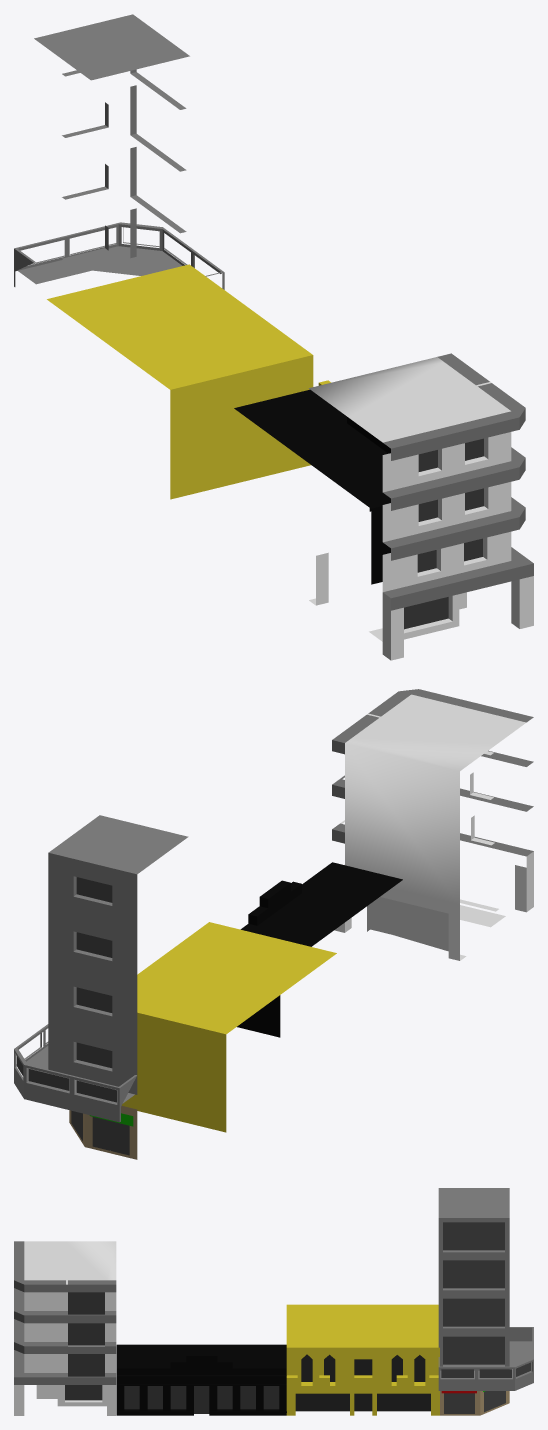
The model's file is Edificio-5-Derecha.glb.
3 renders of one model, top to bottom at view 1: azimuth 30°, elevation 25°; view 2: azimuth 150°, elevation 25°; view 3: azimuth 270°, elevation 25°, orthographic. The views are drawn at different scales.
Parts seen in each view (by area): view 1: Plane3, Plane, Plane2, EdificioAlto, Base; view 2: Plane3, EdificioAlto, Plane, Plane2, Base; view 3: Plane3, Plane, EdificioAlto, Plane2, Base.
Part boxes in pixels (<box>): Plane3: <box>309,353,533,660</box>; Plane: <box>47,264,330,499</box>; Plane2: <box>234,389,390,584</box>; EdificioAlto: <box>34,14,189,273</box>; Base: <box>14,222,224,289</box>; Plane3: <box>332,689,533,960</box>; EdificioAlto: <box>48,815,188,1094</box>; Plane: <box>122,922,336,1132</box>; Plane2: <box>237,862,402,1037</box>; Base: <box>14,1024,137,1159</box>; Plane3: <box>14,1241,116,1415</box>; Plane: <box>286,1304,439,1415</box>; EdificioAlto: <box>438,1188,509,1370</box>; Plane2: <box>116,1344,286,1415</box>; Base: <box>438,1327,533,1415</box>.
Size of the model in its own units: 22.27 by 38.36 by 91.56.
